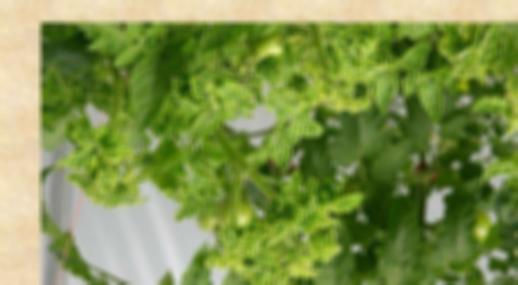Tomato leaf yellow virus: (418, 79, 454, 128), (183, 110, 224, 148), (331, 36, 363, 82), (371, 65, 400, 115), (215, 75, 254, 111), (54, 142, 102, 169), (477, 157, 518, 188), (325, 190, 371, 216), (467, 90, 509, 118), (104, 130, 136, 163), (270, 127, 292, 173), (292, 113, 329, 138), (282, 72, 317, 98), (241, 225, 265, 253), (219, 216, 236, 254), (298, 209, 325, 232), (316, 233, 338, 257), (272, 219, 294, 243), (259, 57, 276, 87)
